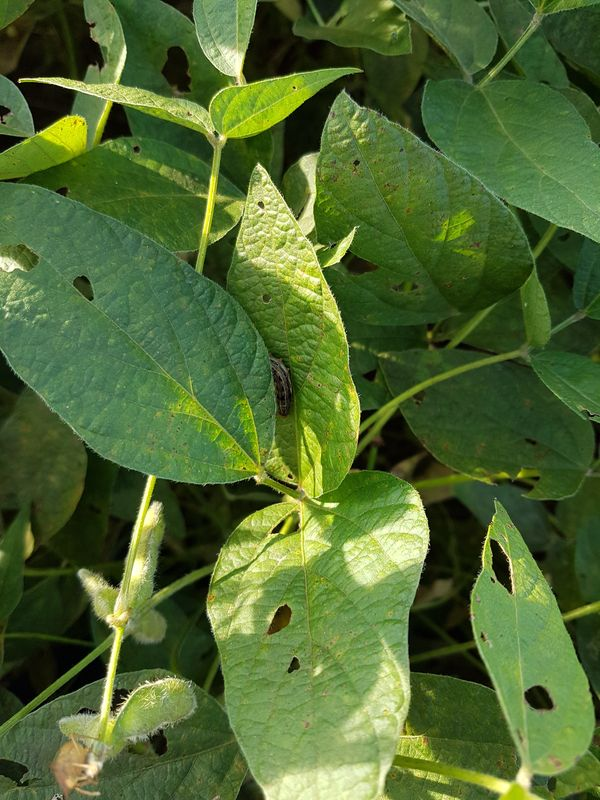Euschistus_heros_adulto: (38, 726, 117, 800)
Spodoptera_albula: (250, 350, 309, 420)
